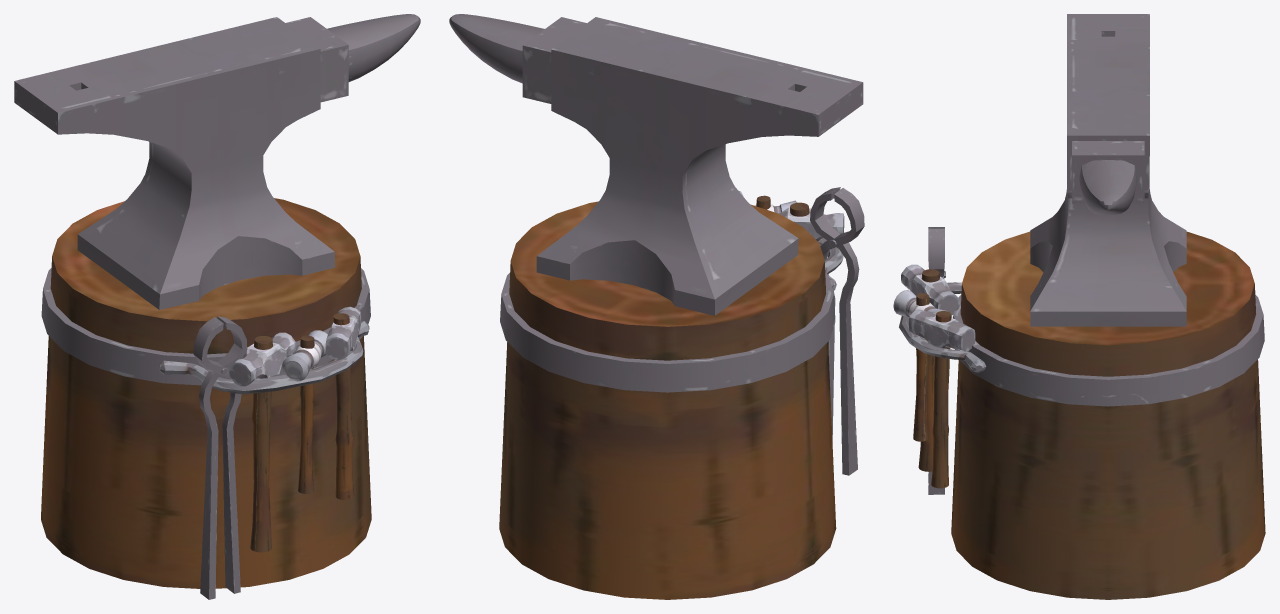
File: Anvil_Log.glb
3 views of the same model, side by side, from view 1: azimuth 30°, elevation 25°; view 2: azimuth 150°, elevation 25°; view 3: azimuth 270°, elevation 25° (orthographic). The views are drawn at different scales.
Parts seen in each view (by area): view 1: Anvil_Log; view 2: Anvil_Log; view 3: Anvil_Log.
Part boxes in pixels (left/top/right/bottom): Anvil_Log: left=14, top=14, right=420, bottom=599; Anvil_Log: left=449, top=14, right=864, bottom=599; Anvil_Log: left=893, top=14, right=1265, bottom=599.
Size of the model in its own units: 0.9292 by 1.07 by 0.8214.
3 materials, 3 textured.
